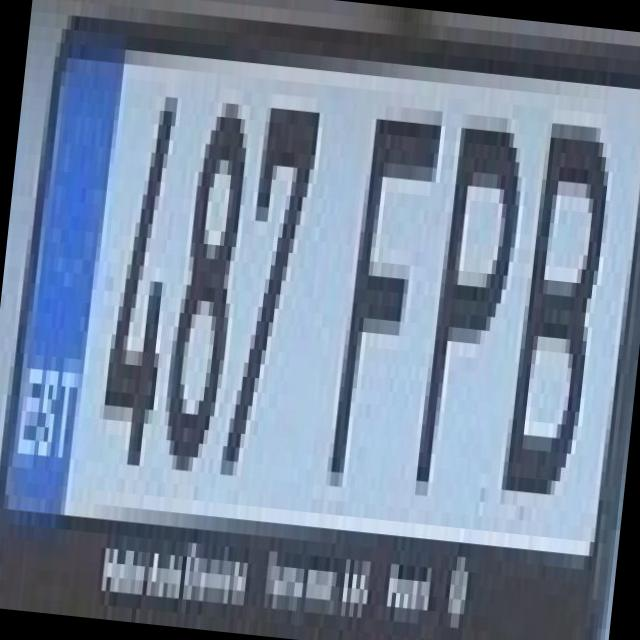4: (86, 64, 192, 467)
7: (209, 62, 324, 466)
8: (152, 71, 262, 460)
B: (485, 91, 624, 498)
F: (310, 73, 450, 479)
P: (400, 82, 530, 488)
